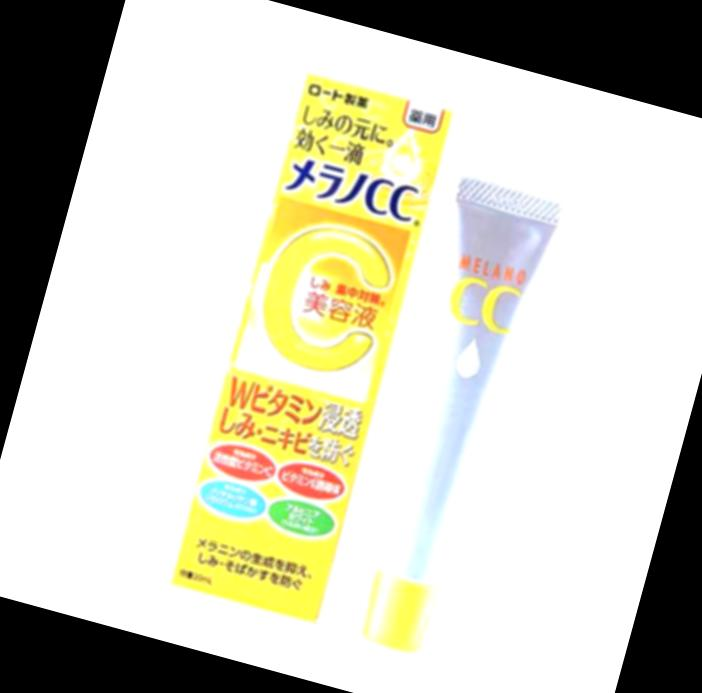cosmetic: (331, 173, 563, 661)
